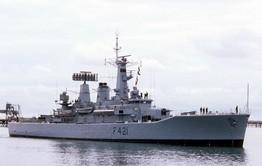warship: (10, 32, 247, 147)
